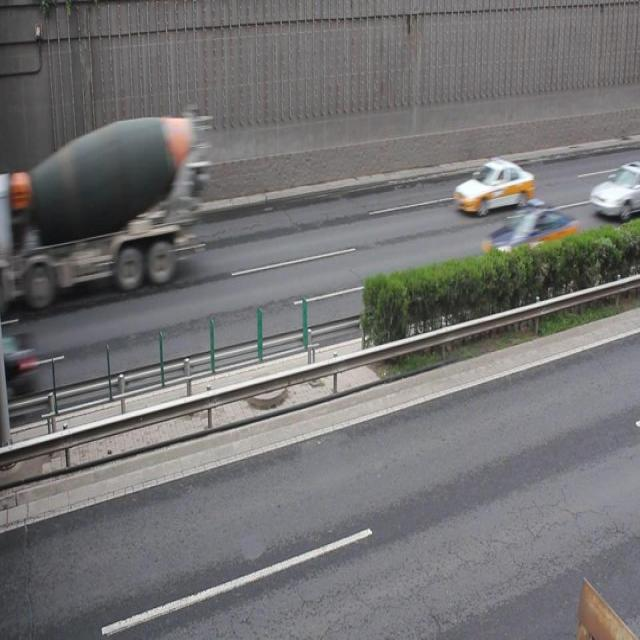bus: (1, 113, 190, 302)
car: (479, 205, 578, 273), (452, 157, 534, 215), (587, 165, 640, 218)
